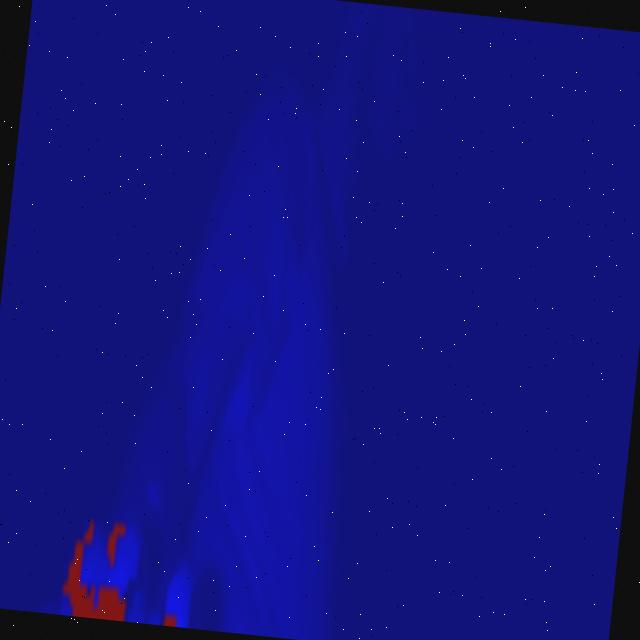rectangle: (192, 102, 390, 636)
